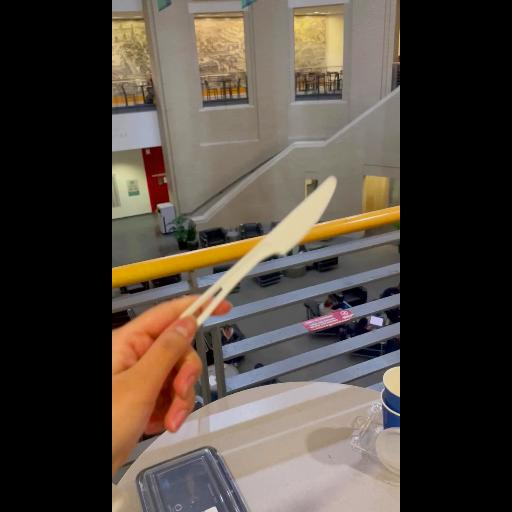utensil: (168, 158, 354, 382)
